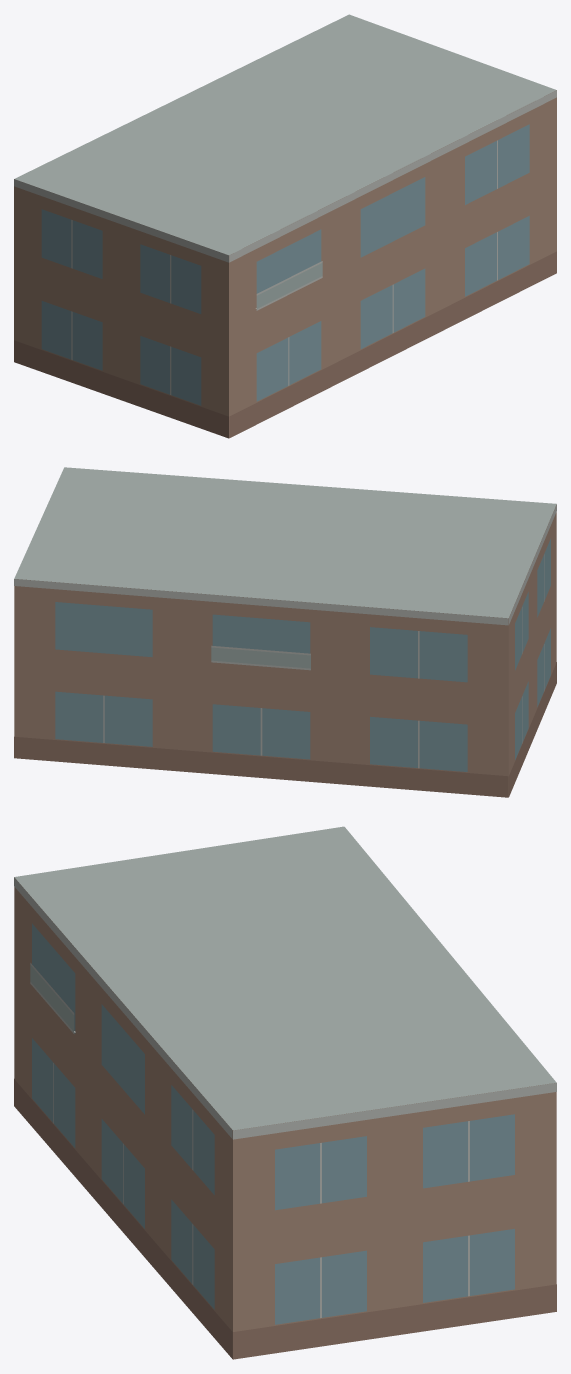
The model's file is survey-upis-32843106.glb.
3 renders of one model, top to bottom at view 1: azimuth 30°, elevation 25°; view 2: azimuth 150°, elevation 25°; view 3: azimuth 270°, elevation 25°, orthographic. The views are drawn at different scales.
Visible parts, largest first — view 1: survey-upis-32843106.tmp; view 2: survey-upis-32843106.tmp; view 3: survey-upis-32843106.tmp.
Part boxes in pixels (<box>): survey-upis-32843106.tmp: <box>14,14,556,438</box>; survey-upis-32843106.tmp: <box>14,467,556,797</box>; survey-upis-32843106.tmp: <box>14,826,556,1359</box>.
Size of the model in its own units: 17.38 by 6.1 by 13.11.
